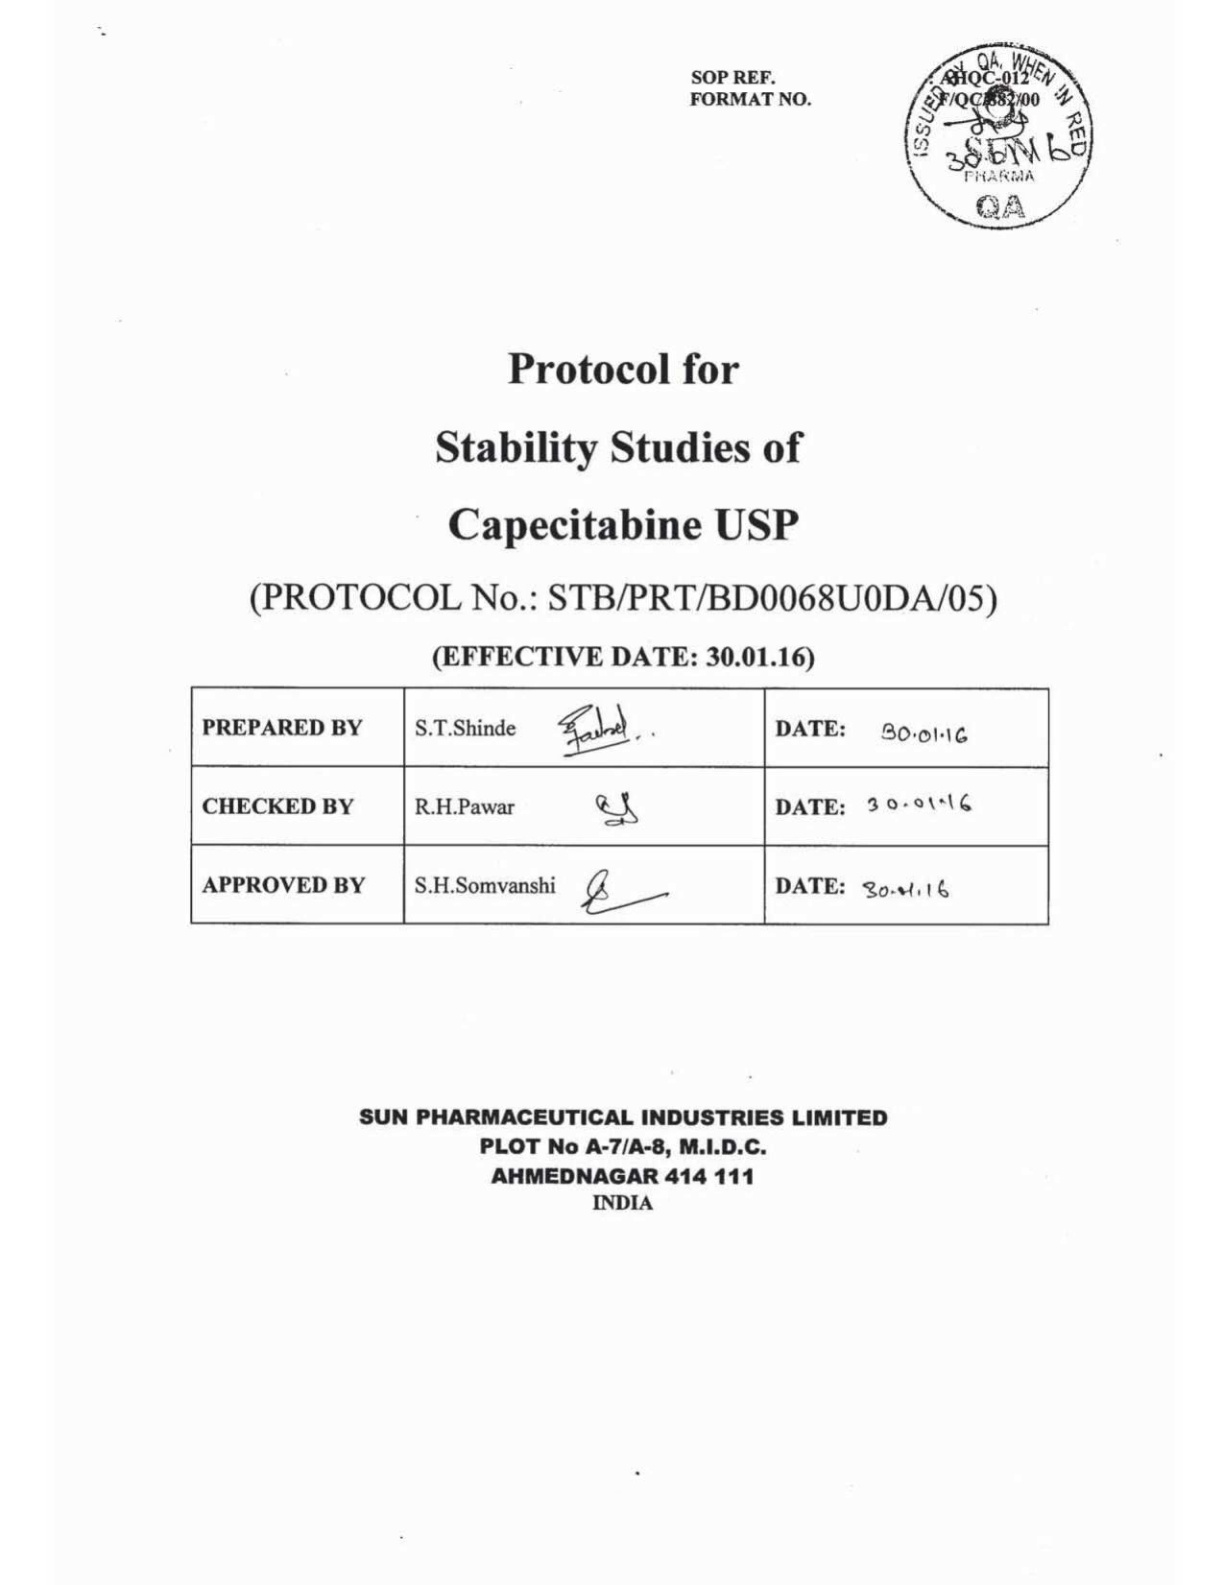full_lined: (188, 684, 1050, 928)
